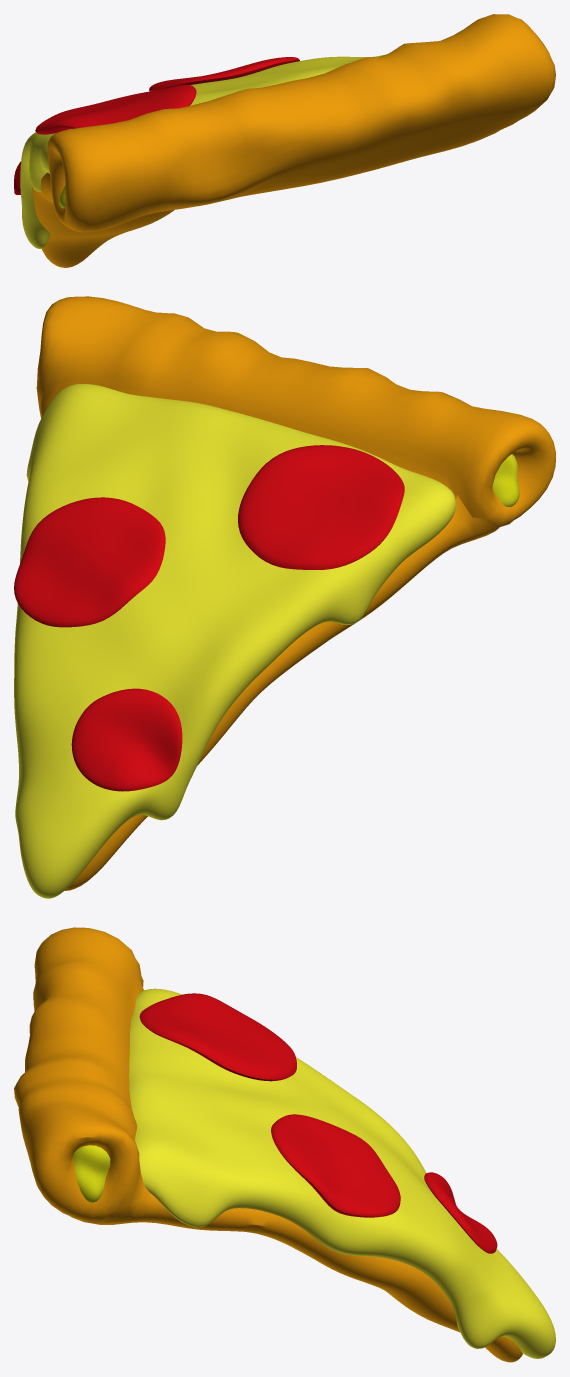
File: pizzas.gltf
3 renders of one model, top to bottom at view 1: azimuth 30°, elevation 25°; view 2: azimuth 150°, elevation 25°; view 3: azimuth 270°, elevation 25°, orthographic. The views are drawn at different scales.
Visible parts, largest first — view 1: BREAD, CHEESE_2, PEPPERONI, PEPPERONI_2; view 2: CHEESE_2, BREAD, PEPPERONI, PEPPERONI_2, PEPPERONI_3, CHEESE; view 3: CHEESE_2, BREAD, PEPPERONI_2, PEPPERONI, PEPPERONI_3, CHEESE.
Boxes of the visible parts, <box> form: BREAD: <box>32,14,555,267</box>; CHEESE_2: <box>20,55,384,248</box>; PEPPERONI: <box>35,85,196,134</box>; PEPPERONI_2: <box>149,57,299,91</box>; CHEESE_2: <box>14,384,455,898</box>; BREAD: <box>36,296,555,890</box>; PEPPERONI: <box>238,445,404,569</box>; PEPPERONI_2: <box>14,497,165,627</box>; PEPPERONI_3: <box>71,688,182,791</box>; CHEESE: <box>492,454,519,506</box>; CHEESE_2: <box>129,988,555,1358</box>; BREAD: <box>14,927,522,1362</box>; PEPPERONI_2: <box>271,1114,400,1217</box>; PEPPERONI: <box>139,993,296,1081</box>; PEPPERONI_3: <box>424,1172,497,1253</box>; CHEESE: <box>73,1145,110,1202</box>.
Size of the model in its own units: 1.06 by 0.7406 by 1.06.
